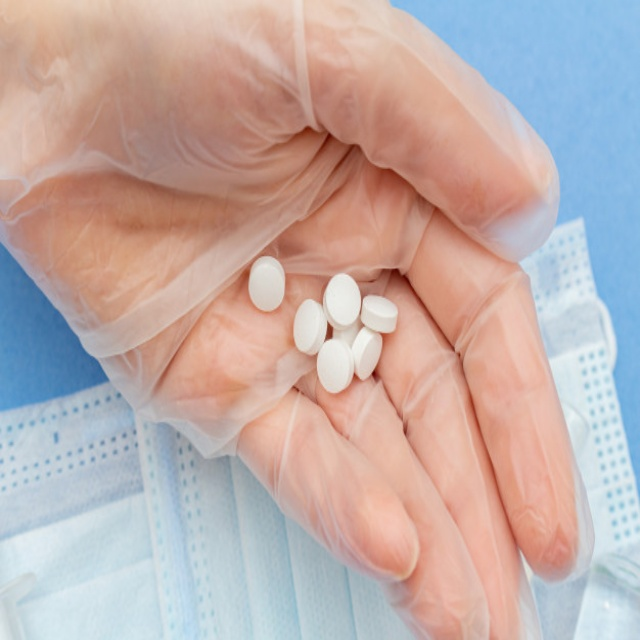pill: (241, 166, 279, 204), (310, 220, 344, 259), (287, 195, 319, 233), (315, 179, 353, 211), (341, 212, 376, 246), (354, 192, 389, 216)
